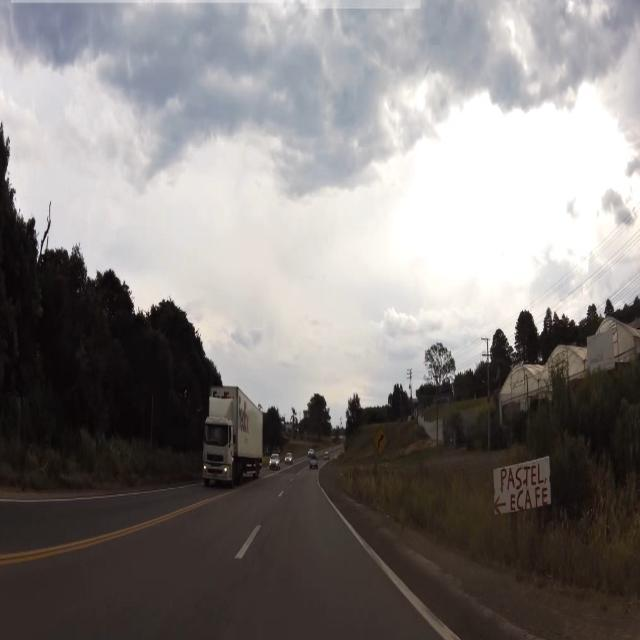A-2b: (375, 429, 387, 459)
